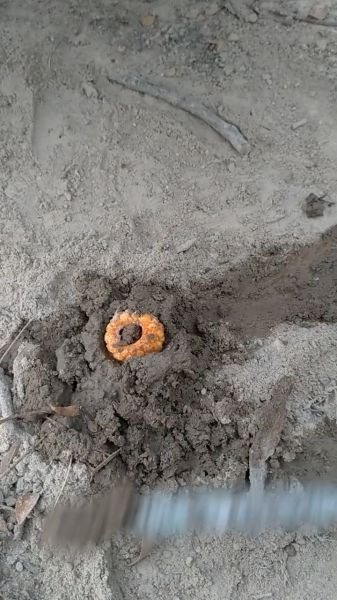eggs: (100, 309, 169, 364)
